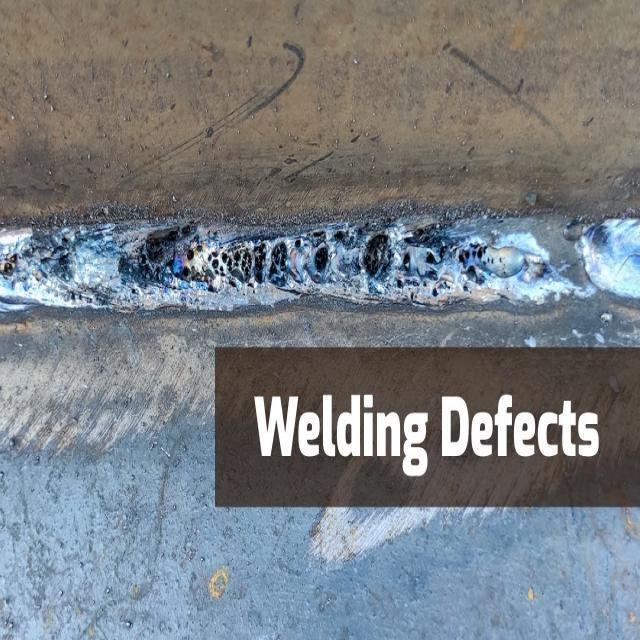Bad Weld: (6, 209, 640, 331)
Defect: (35, 248, 81, 284), (147, 229, 180, 267), (360, 238, 386, 279), (459, 239, 494, 269), (208, 245, 232, 276), (269, 244, 287, 278), (309, 247, 329, 273), (426, 278, 444, 303), (398, 250, 417, 273), (425, 248, 438, 263)
